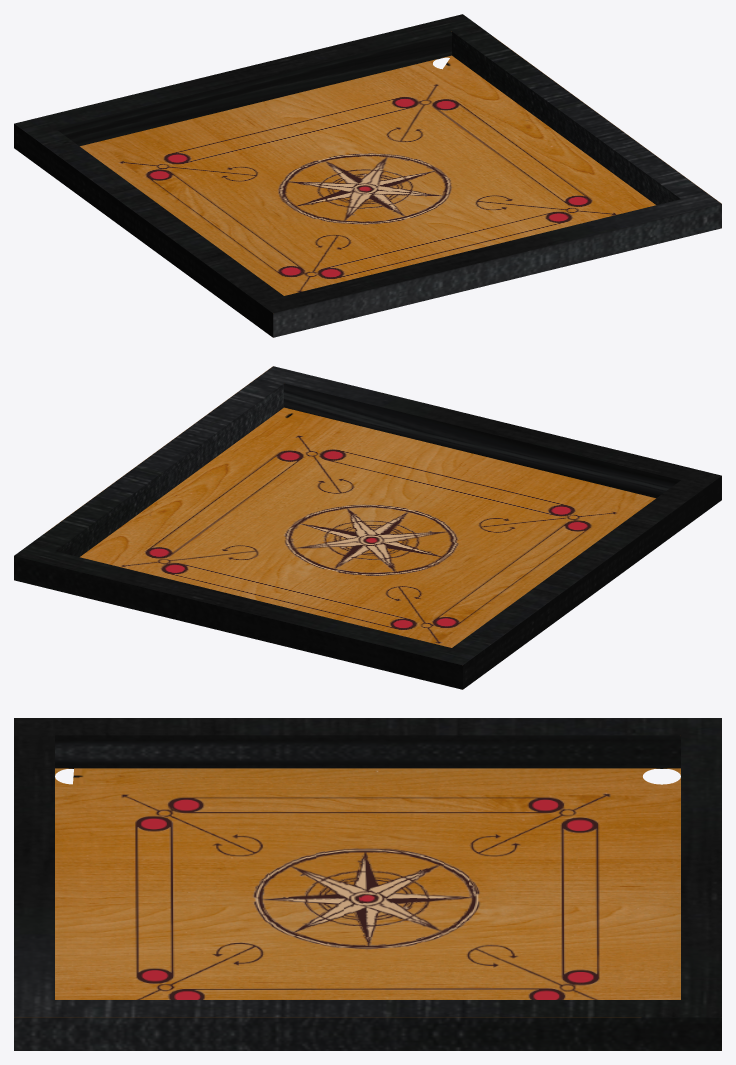
Rendered from Carrom6_6l.fbx.
The picture shows the model from 3 angles, top to bottom: view 1: azimuth 30°, elevation 25°; view 2: azimuth 150°, elevation 25°; view 3: azimuth 270°, elevation 25°; orthographic projection. The views are drawn at different scales.
Parts seen in each view (by area): view 1: Plane.003; view 2: Plane.003; view 3: Plane.003.
Boxes of the visible parts, x1,y1,x2,y2 form: Plane.003: (14, 14, 721, 337); Plane.003: (14, 366, 721, 689); Plane.003: (14, 718, 721, 1050).
Bounding box in the file's own units: 83.55 × 4.36 × 83.55.
